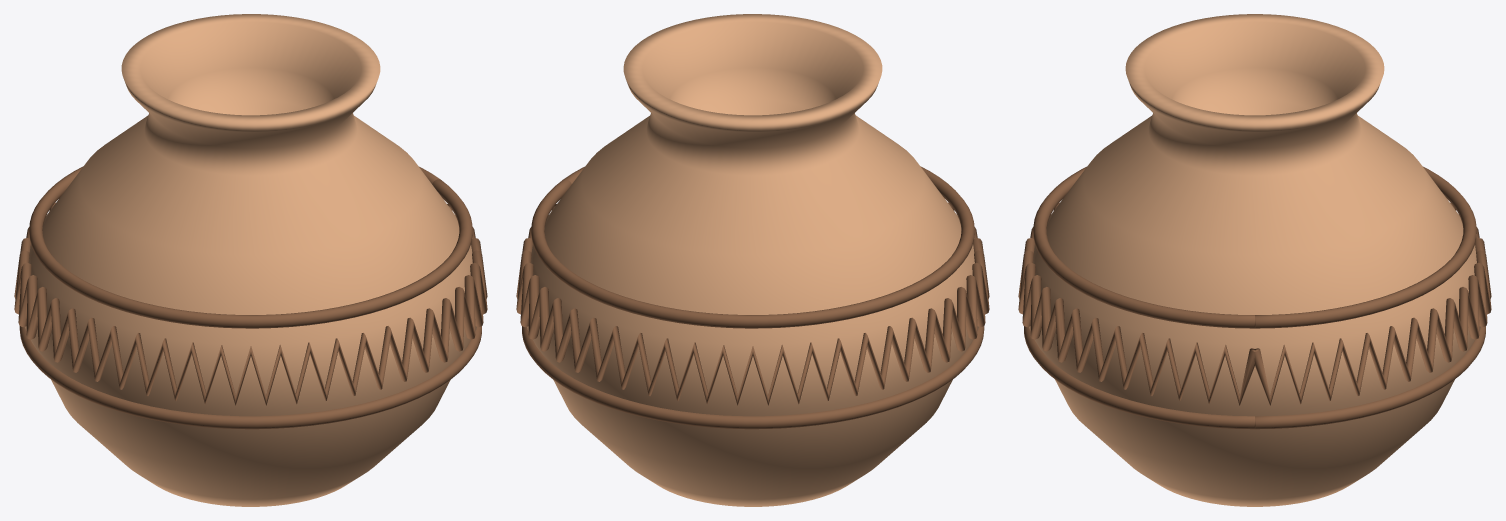
The model's file is vasija.glb.
3 views of the same model, side by side, from view 1: azimuth 30°, elevation 25°; view 2: azimuth 150°, elevation 25°; view 3: azimuth 270°, elevation 25° (orthographic).
Parts seen in each view (by area): view 1: corazon; view 2: corazon; view 3: corazon.
Part boxes in pixels (box(x1,y1,x2,y2)): corazon: box(14, 14, 487, 506); corazon: box(516, 14, 989, 506); corazon: box(1018, 14, 1491, 506).
Bounding box in the file's own units: 1.24 × 1.13 × 1.24.
